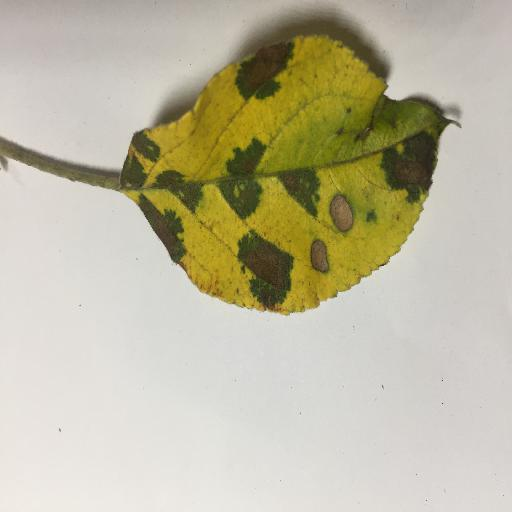Brown_Spot: (384, 141, 433, 192), (242, 241, 291, 290), (139, 201, 182, 253), (238, 44, 288, 86), (329, 195, 355, 232), (310, 241, 327, 271), (284, 173, 303, 195), (242, 159, 255, 171)
